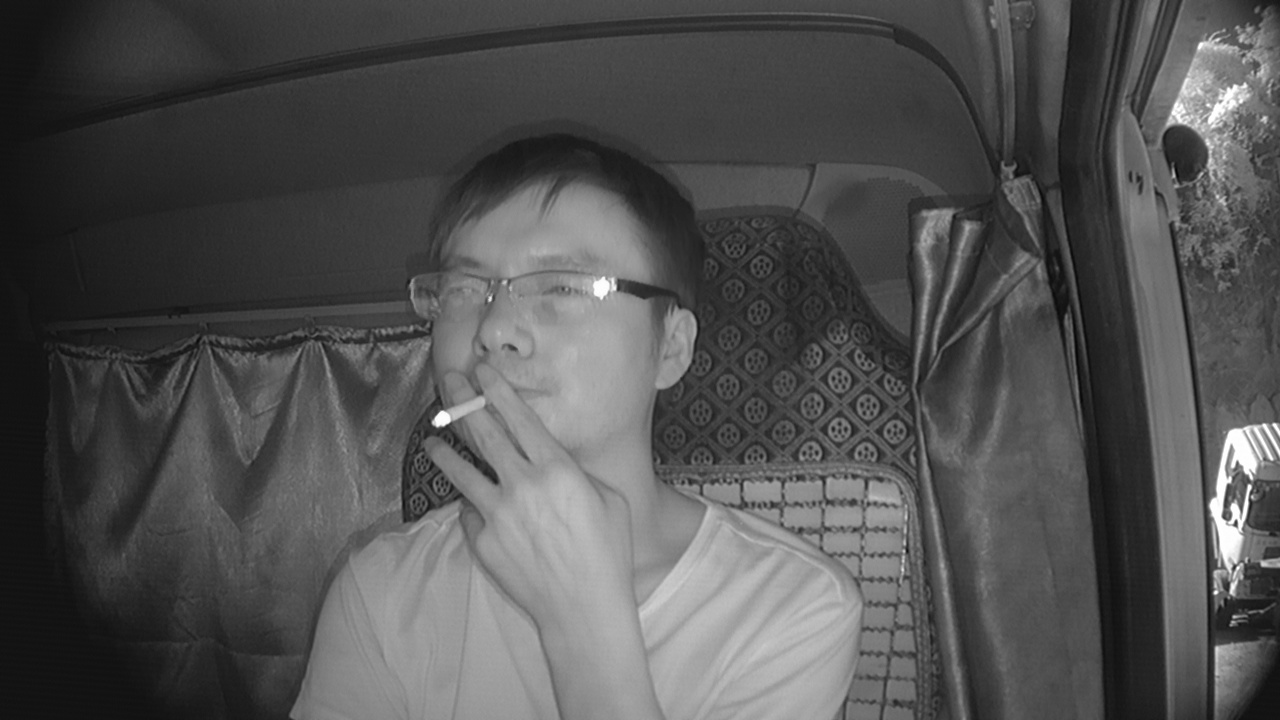hand: (425, 369, 611, 572)
